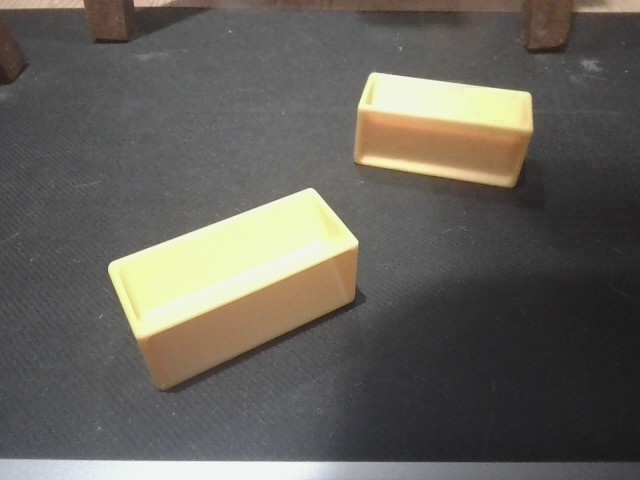YellowSample: (104, 184, 362, 395), (350, 70, 538, 194)
